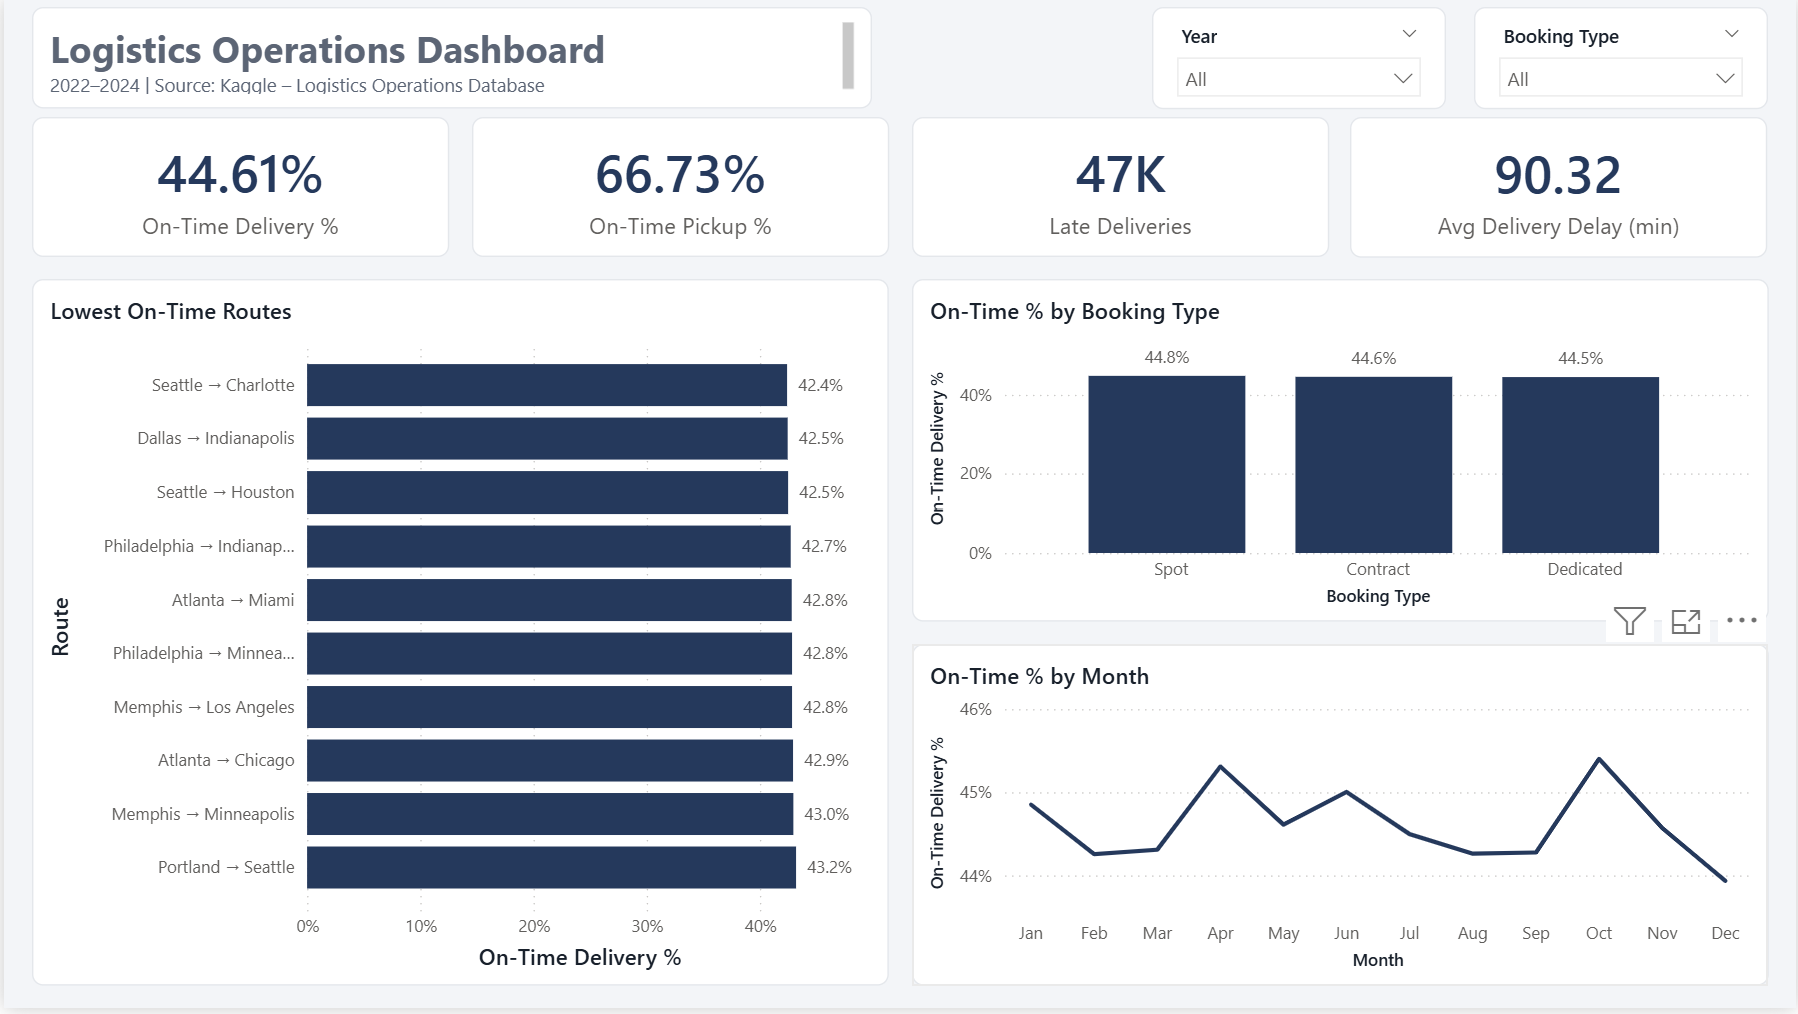

What the dashboard file says about the page in this screenshot:
{"tool":"powerbi","page":{"name":"Delivery Performance","canvas":[1280,720],"ordinal":1},"visuals":[{"type":"slicer","fields":{"Values":["Date.Year"]},"box":[820,5,210,73],"z":0},{"type":"slicer","fields":{"Values":["loads.booking_type"]},"box":[1050,5,210.2,73],"z":1000},{"type":"textbox","box":[20,5,599.8,72.3],"z":2000},{"type":"card","fields":{"Values":["loads.Avg Delivery Delay (min)"]},"box":[962,84,298,100.4],"z":3000},{"type":"card","fields":{"Values":["loads.On-Time Delivery %"]},"box":[20,84,298,100],"z":4000},{"type":"card","fields":{"Values":["loads.On-Time Pickup %"]},"box":[334,84,298,100],"z":5000},{"type":"card","fields":{"Values":["loads.Late Deliveries"]},"box":[648,84,298,100],"z":6000},{"type":"clusteredBarChart","title":"\tLowest On-Time Routes","fields":{"Y":["loads.On-Time Delivery %"],"Category":["routes.Route"]},"box":[20.1,200,612,504],"z":7000},{"type":"clusteredColumnChart","title":"On-Time % by Booking Type","fields":{"Category":["loads.booking_type"],"Y":["loads.On-Time Delivery %"]},"box":[648,200,612,244],"z":8000},{"type":"lineChart","title":"On-Time % by Month","fields":{"Category":["Date.Month"],"Y":["loads.On-Time Delivery %"]},"box":[648,460,612,244],"z":9000}]}

Visuals, with their boxes in screenshot pixels (x1, y1, x2, y2), scaled from the page's 1280x720 canvas onto the 1798x1014 screenshot:
slicer - Date.Year: l=1152, t=7, r=1447, b=110
slicer - loads.booking_type: l=1475, t=7, r=1770, b=110
textbox: l=28, t=7, r=871, b=109
card - loads.Avg Delivery Delay (min): l=1351, t=118, r=1770, b=260
card - loads.On-Time Delivery %: l=28, t=118, r=447, b=259
card - loads.On-Time Pickup %: l=469, t=118, r=888, b=259
card - loads.Late Deliveries: l=910, t=118, r=1329, b=259
"	Lowest On-Time Routes" clusteredBarChart: l=28, t=282, r=888, b=991
"On-Time % by Booking Type" clusteredColumnChart: l=910, t=282, r=1770, b=625
"On-Time % by Month" lineChart: l=910, t=648, r=1770, b=991
